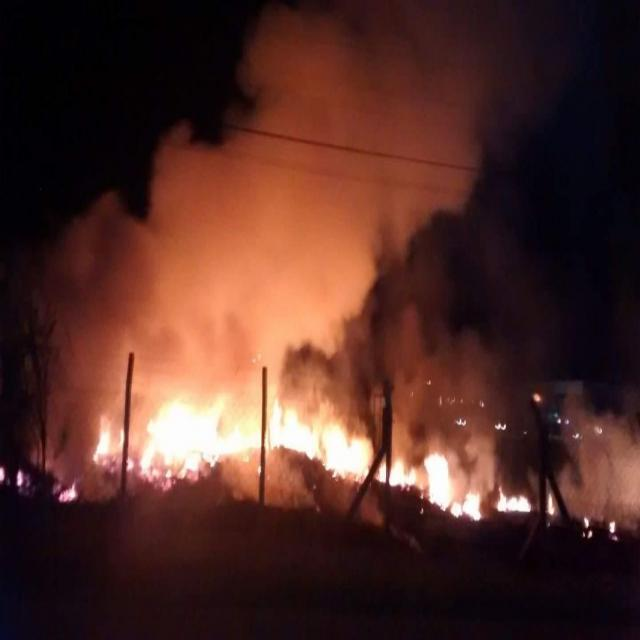Fire: (139, 394, 320, 494), (321, 420, 419, 494), (423, 449, 482, 522), (91, 418, 135, 480), (496, 484, 534, 516), (49, 480, 82, 508), (579, 512, 593, 540), (17, 467, 32, 493), (606, 520, 618, 542), (546, 494, 556, 514), (0, 466, 5, 484)
Smoke: (43, 0, 489, 415), (558, 400, 640, 527)
